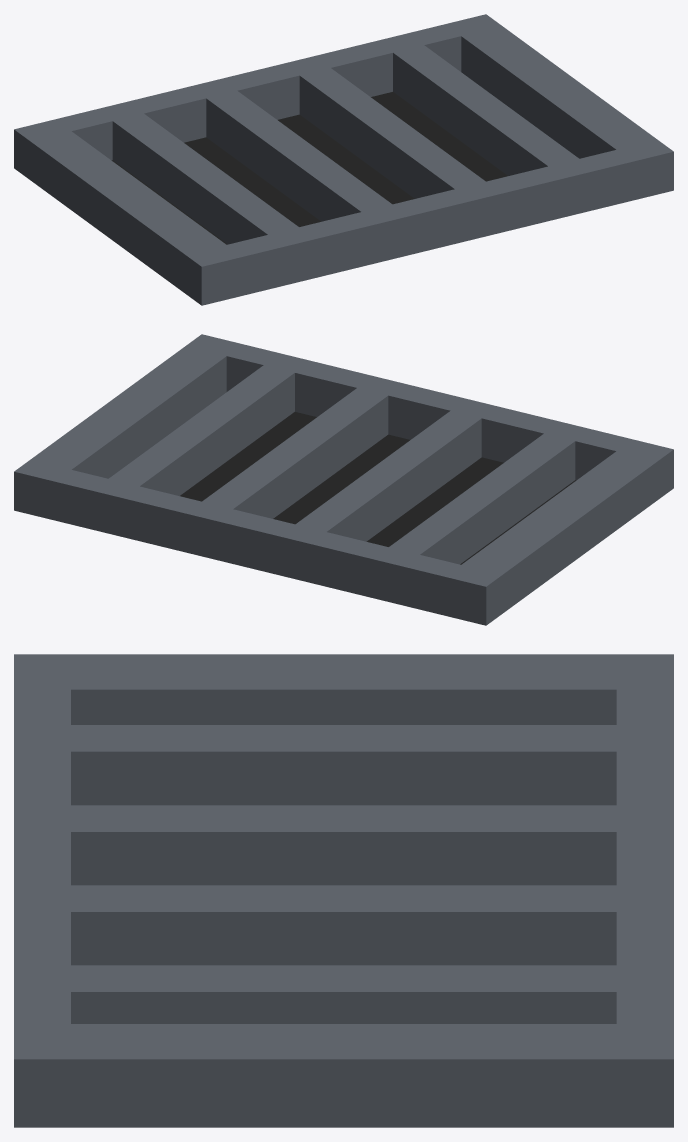
File: Road_Objects_Expense_Log.fbx
3 views of the same model, one above another, from view 1: azimuth 30°, elevation 25°; view 2: azimuth 150°, elevation 25°; view 3: azimuth 270°, elevation 25° (orthographic). The views are drawn at different scales.
Parts seen in each view (by area): view 1: Road_Objects_Expense_Log; view 2: Road_Objects_Expense_Log; view 3: Road_Objects_Expense_Log.
Part boxes in pixels (x1=…): Road_Objects_Expense_Log: x1=14, y1=14, x2=673, y2=305; Road_Objects_Expense_Log: x1=14, y1=334, x2=673, y2=625; Road_Objects_Expense_Log: x1=14, y1=654, x2=673, y2=1127.
Size of the model in its own units: 84.85 by 6.69 by 58.46.
